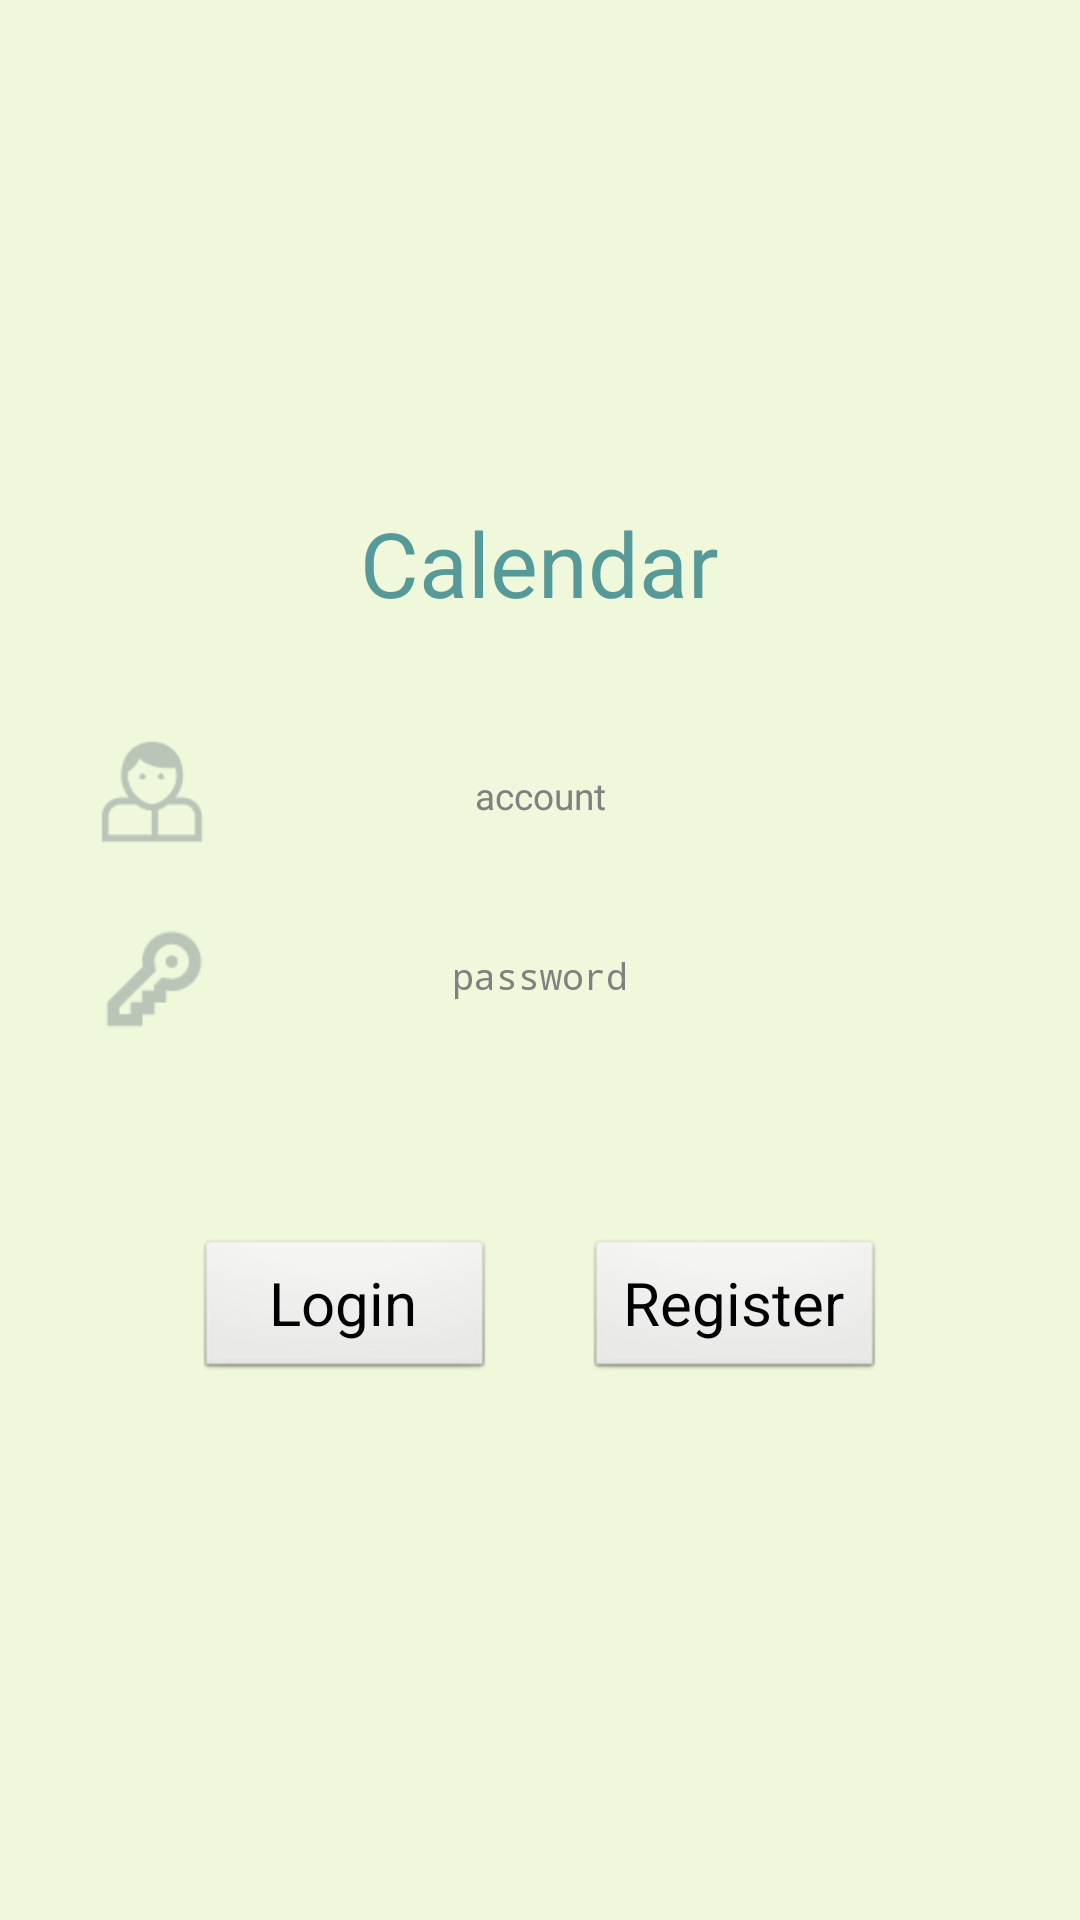

Where icons sit on this 1080×1920 app screen, as bbox=[x1, y1, x2, y2]:
user: bbox=[102, 742, 202, 842]
